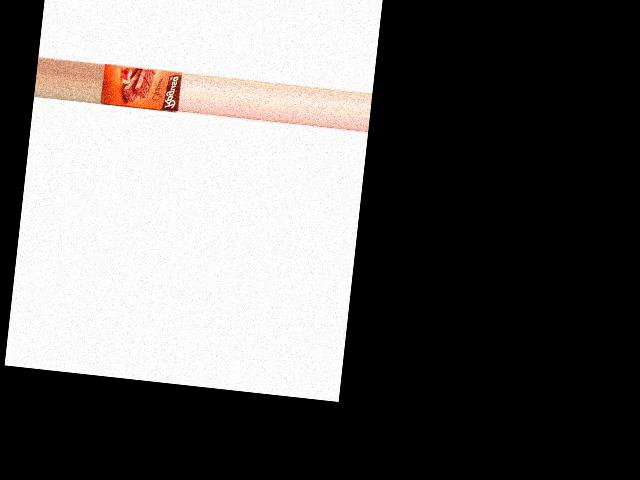chocolate: (99, 59, 181, 114)
